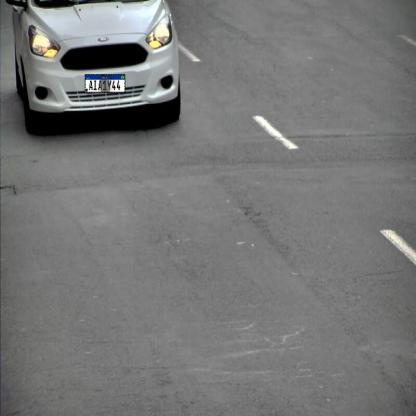PlacaM: (85, 74, 125, 93)
